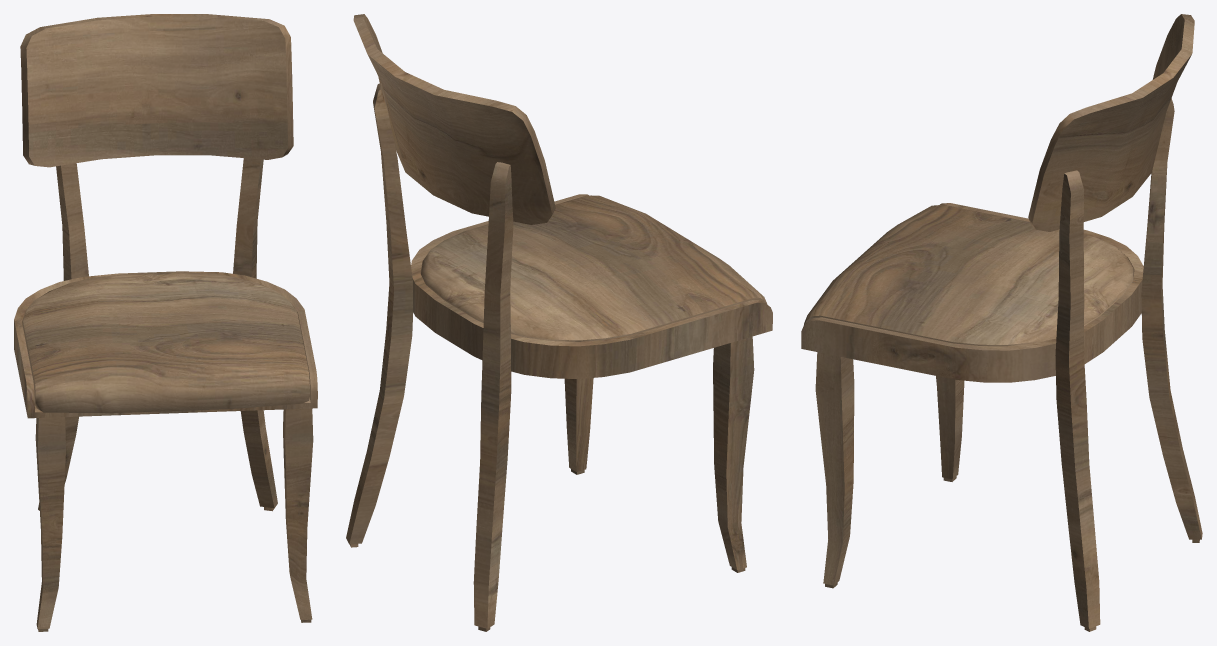
The model's file is chair.glb.
3 renders of one model, left to right at view 1: azimuth 30°, elevation 25°; view 2: azimuth 150°, elevation 25°; view 3: azimuth 270°, elevation 25°, orthographic. The views are drawn at different scales.
Parts seen in each view (by area): view 1: bk_n3d, top2_n3d, leg_n3d, bk leg_n3d, top_n3d; view 2: top2_n3d, bk leg_n3d, bk_n3d, top_n3d, leg_n3d; view 3: top2_n3d, bk leg_n3d, bk_n3d, top_n3d, leg_n3d.
Boxes of the visible parts, bbox=[...] form: bk_n3d: bbox=[20, 14, 293, 167]; top2_n3d: bbox=[23, 272, 309, 413]; leg_n3d: bbox=[35, 408, 313, 631]; bk leg_n3d: bbox=[38, 158, 277, 511]; top_n3d: bbox=[14, 271, 317, 418]; top2_n3d: bbox=[421, 195, 766, 341]; bk leg_n3d: bbox=[346, 83, 513, 631]; bk_n3d: bbox=[353, 14, 555, 224]; top_n3d: bbox=[411, 194, 772, 378]; leg_n3d: bbox=[564, 336, 754, 572]; top2_n3d: bbox=[804, 205, 1133, 346]; bk leg_n3d: bbox=[1055, 98, 1202, 631]; bk_n3d: bbox=[1028, 14, 1194, 231]; top_n3d: bbox=[801, 203, 1143, 382]; leg_n3d: bbox=[815, 352, 964, 588].
Bounding box in the file's own units: 0.5542 × 0.8004 × 0.5613.
1 material, 1 textured.
